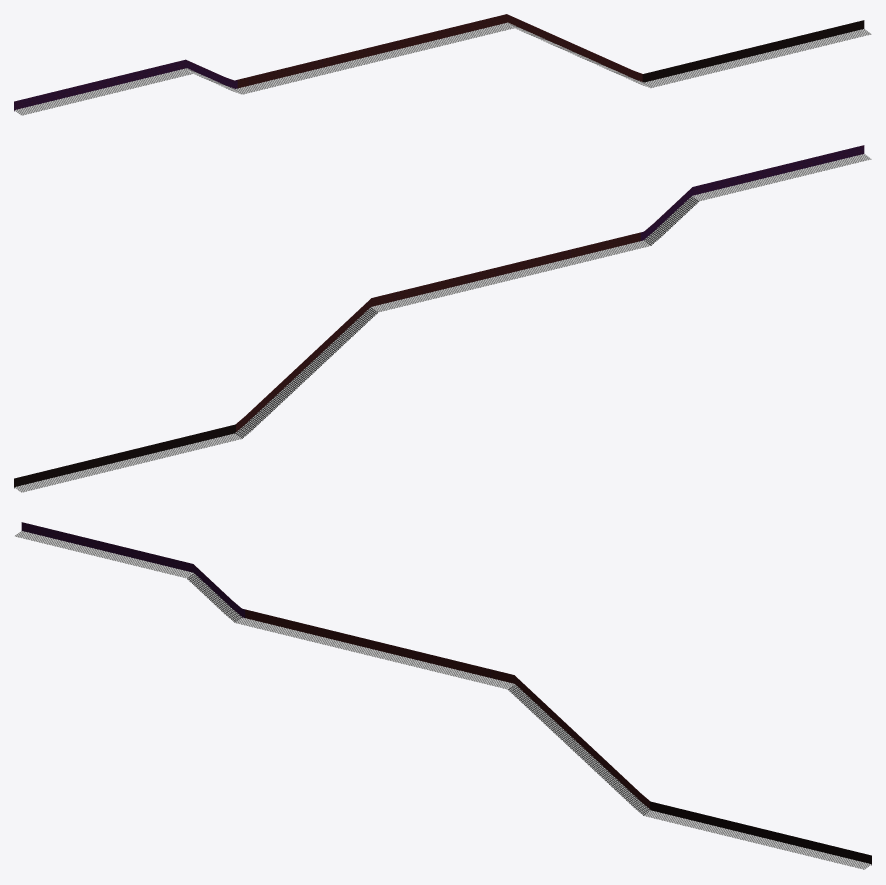
File: EggmanCasteloTetoAlinhado.glb
3 renders of one model, top to bottom at view 1: azimuth 30°, elevation 25°; view 2: azimuth 210°, elevation 25°; view 3: azimuth 330°, elevation 25°, orthographic.
Parts seen in each view (by area): view 1: Eggman_Sector_9, Eggman_Sector_11, Eggman_Sector_8, Eggman_Sector_6, Eggman_Sector_17, Eggman_Sector_20, Eggman_Sector_18, Eggman_Sector_1, Eggman_Sector_2, Eggman_Sector_0, Eggman_Sector_3, Eggman_Sector_16 (+10 smaller); view 2: Eggman_Sector_14, Eggman_Sector_15, Eggman_Sector_13, Eggman_Sector_4, Eggman_Sector_5, Eggman_Sector_6, Eggman_Sector_20, Eggman_Sector_8, Eggman_Sector_18, Eggman_Sector_9, Eggman_Sector_11, Eggman_Sector_12 (+4 smaller); view 3: Eggman_Sector_14, Eggman_Sector_15, Eggman_Sector_13, Eggman_Sector_4, Eggman_Sector_5, Eggman_Sector_6, Eggman_Sector_20, Eggman_Sector_8, Eggman_Sector_18, Eggman_Sector_9, Eggman_Sector_11, Eggman_Sector_12 (+4 smaller).
Part boxes in pixels (<box>): Eggman_Sector_9: <box>364,38,409,62</box>; Eggman_Sector_11: <box>438,20,488,43</box>; Eggman_Sector_8: <box>322,48,370,72</box>; Eggman_Sector_6: <box>248,66,293,91</box>; Eggman_Sector_17: <box>672,56,722,80</box>; Eggman_Sector_20: <box>789,28,838,51</box>; Eggman_Sector_18: <box>715,45,759,70</box>; Eggman_Sector_1: <box>53,82,99,105</box>; Eggman_Sector_2: <box>92,72,137,96</box>; Eggman_Sector_0: <box>14,92,60,115</box>; Eggman_Sector_3: <box>131,65,176,87</box>; Eggman_Sector_16: <box>637,67,682,88</box>; Eggman_Sector_14: <box>280,347,326,396</box>; Eggman_Sector_15: <box>241,383,287,432</box>; Eggman_Sector_13: <box>319,311,365,360</box>; Eggman_Sector_4: <box>669,182,715,221</box>; Eggman_Sector_5: <box>629,209,676,248</box>; Eggman_Sector_6: <box>585,235,637,258</box>; Eggman_Sector_20: <box>45,460,93,484</box>; Eggman_Sector_8: <box>512,253,560,277</box>; Eggman_Sector_18: <box>118,442,170,465</box>; Eggman_Sector_9: <box>469,263,521,286</box>; Eggman_Sector_11: <box>396,281,442,305</box>; Eggman_Sector_12: <box>358,292,403,323</box>; Eggman_Sector_14: <box>559,724,605,773</box>; Eggman_Sector_15: <box>598,760,644,809</box>; Eggman_Sector_13: <box>520,688,566,737</box>; Eggman_Sector_4: <box>170,559,216,598</box>; Eggman_Sector_5: <box>209,586,256,625</box>; Eggman_Sector_6: <box>248,612,300,635</box>; Eggman_Sector_20: <box>792,837,840,861</box>; Eggman_Sector_8: <box>325,630,373,654</box>; Eggman_Sector_18: <box>715,819,767,842</box>; Eggman_Sector_9: <box>364,640,416,663</box>; Eggman_Sector_11: <box>443,658,489,682</box>; Eggman_Sector_12: <box>482,669,527,700</box>.
Bounding box in the file's own units: 559 × 85.4 × 8.6.
1 material, 1 textured.
